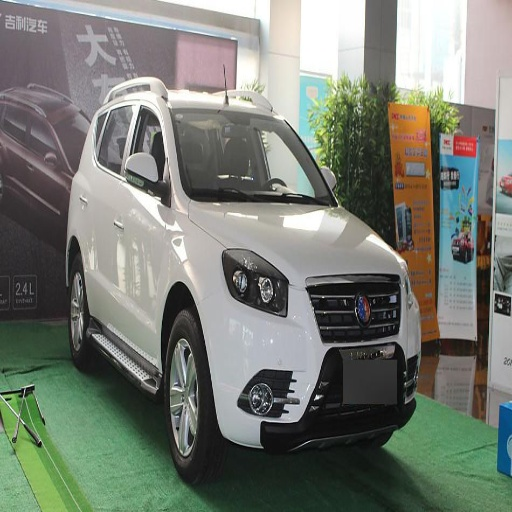front_bumper: (203, 276, 420, 448)
front_right_door: (115, 99, 168, 351)
front_right_light: (222, 250, 290, 317)
hood: (191, 201, 405, 295)
